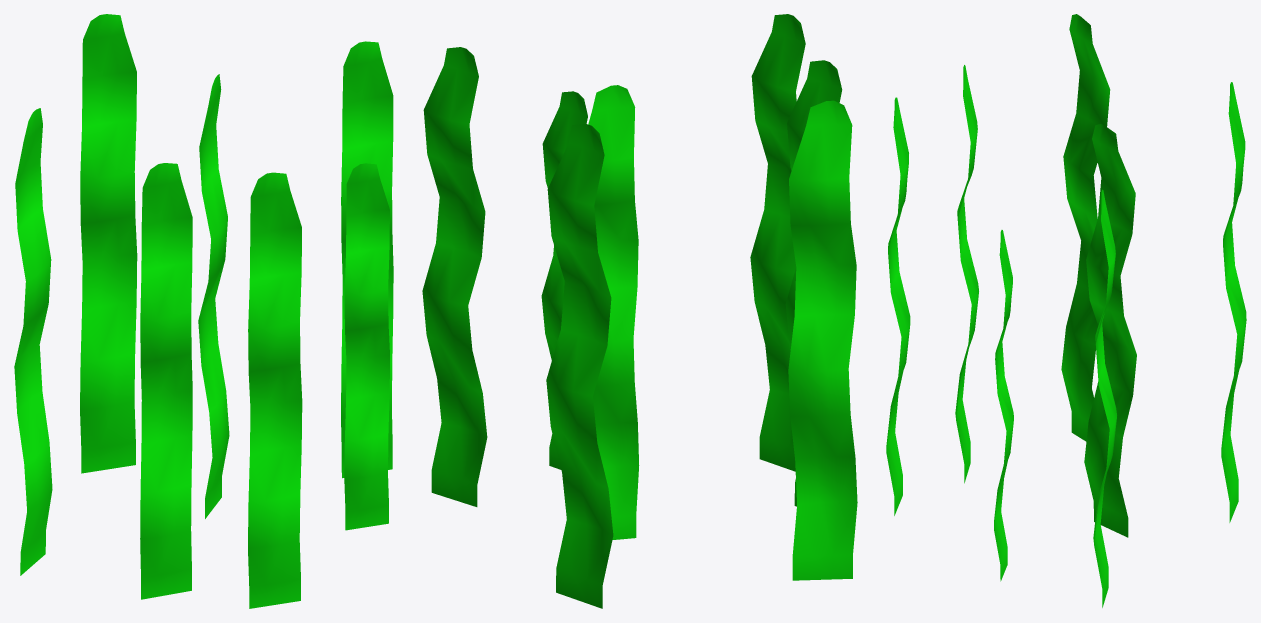
The model's file is Seaweed_3.fbx.
3 renders of one model, left to right at view 1: azimuth 30°, elevation 25°; view 2: azimuth 150°, elevation 25°; view 3: azimuth 270°, elevation 25°, orthographic. The views are drawn at different scales.
Parts seen in each view (by area): view 1: Seaweed_3; view 2: Seaweed_3; view 3: Seaweed_3.
Part boxes in pixels (<box>): Seaweed_3: <box>14,14,393,608</box>; Seaweed_3: <box>422,14,857,608</box>; Seaweed_3: <box>886,14,1246,607</box>.
Bounding box in the file's own units: 449 × 498 × 382.
